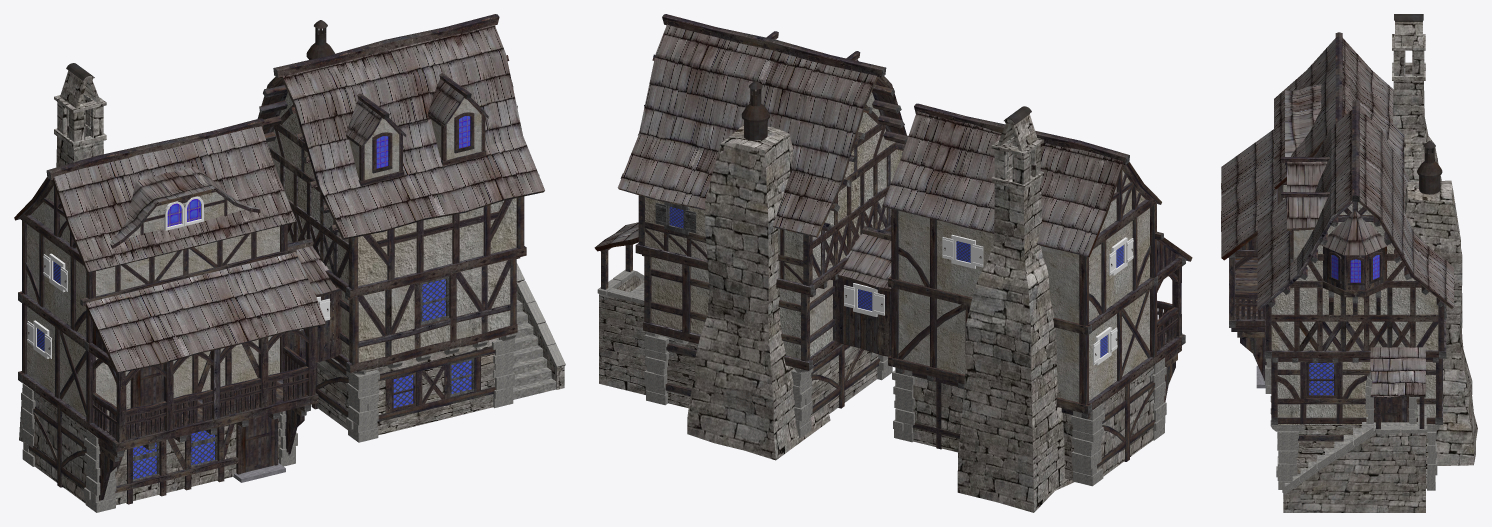
File: house1.glb
3 renders of one model, left to right at view 1: azimuth 30°, elevation 25°; view 2: azimuth 150°, elevation 25°; view 3: azimuth 270°, elevation 25°, orthographic. The views are drawn at different scales.
Visible parts, largest first — view 1: house1; view 2: house1; view 3: house1.
Boxes of the visible parts, left/top/right/bottom form: house1: left=14, top=14, right=565, bottom=512; house1: left=594, top=14, right=1192, bottom=512; house1: left=1221, top=14, right=1477, bottom=512.
Bounding box in the file's own units: 16.5 × 12.27 × 8.54.
13 materials, 12 textured.
